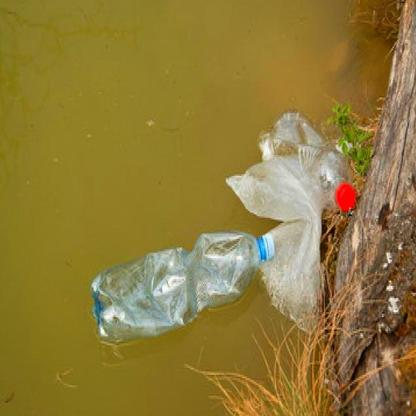plastic bag: (228, 111, 332, 331)
plastic bottle: (88, 230, 276, 336), (275, 113, 357, 211)
